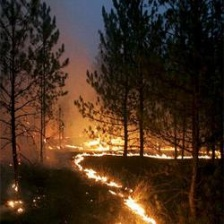fire: (74, 136, 173, 224)
